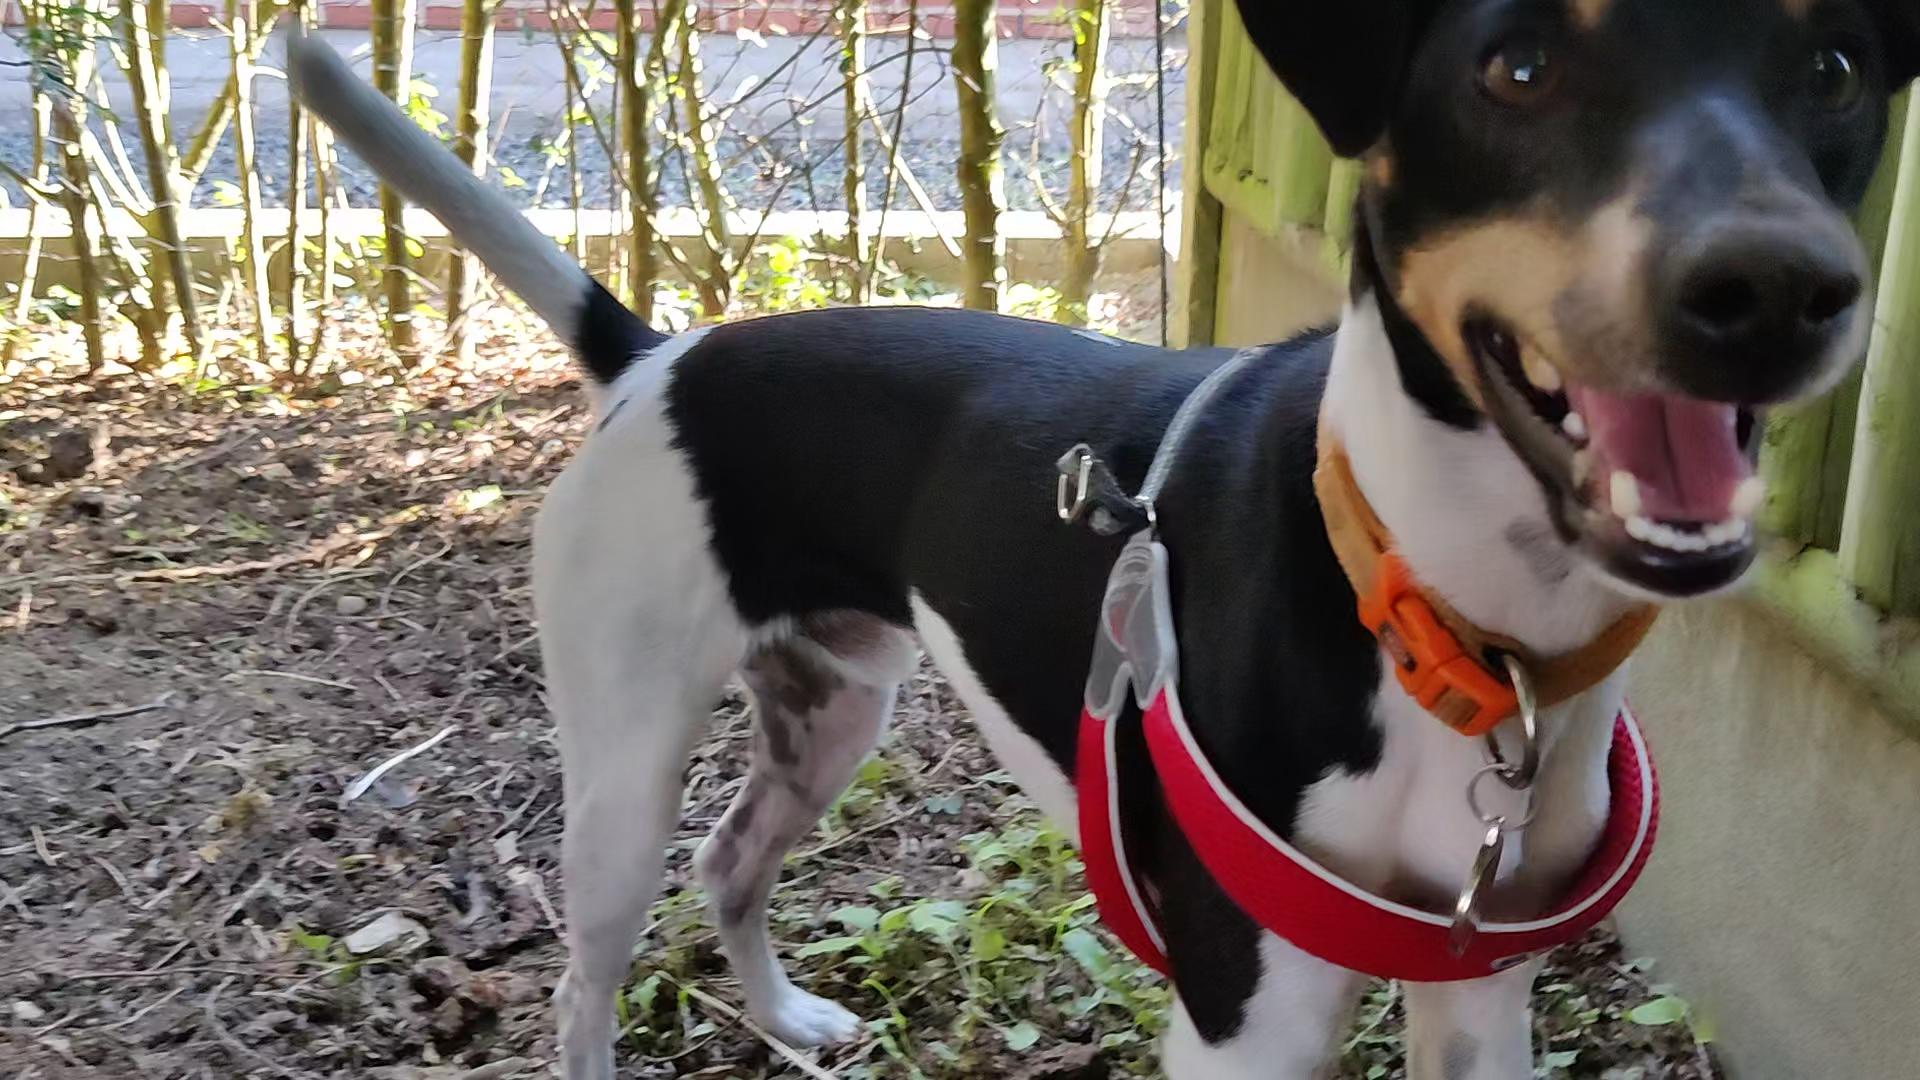Dog: (280, 0, 1919, 1079)
